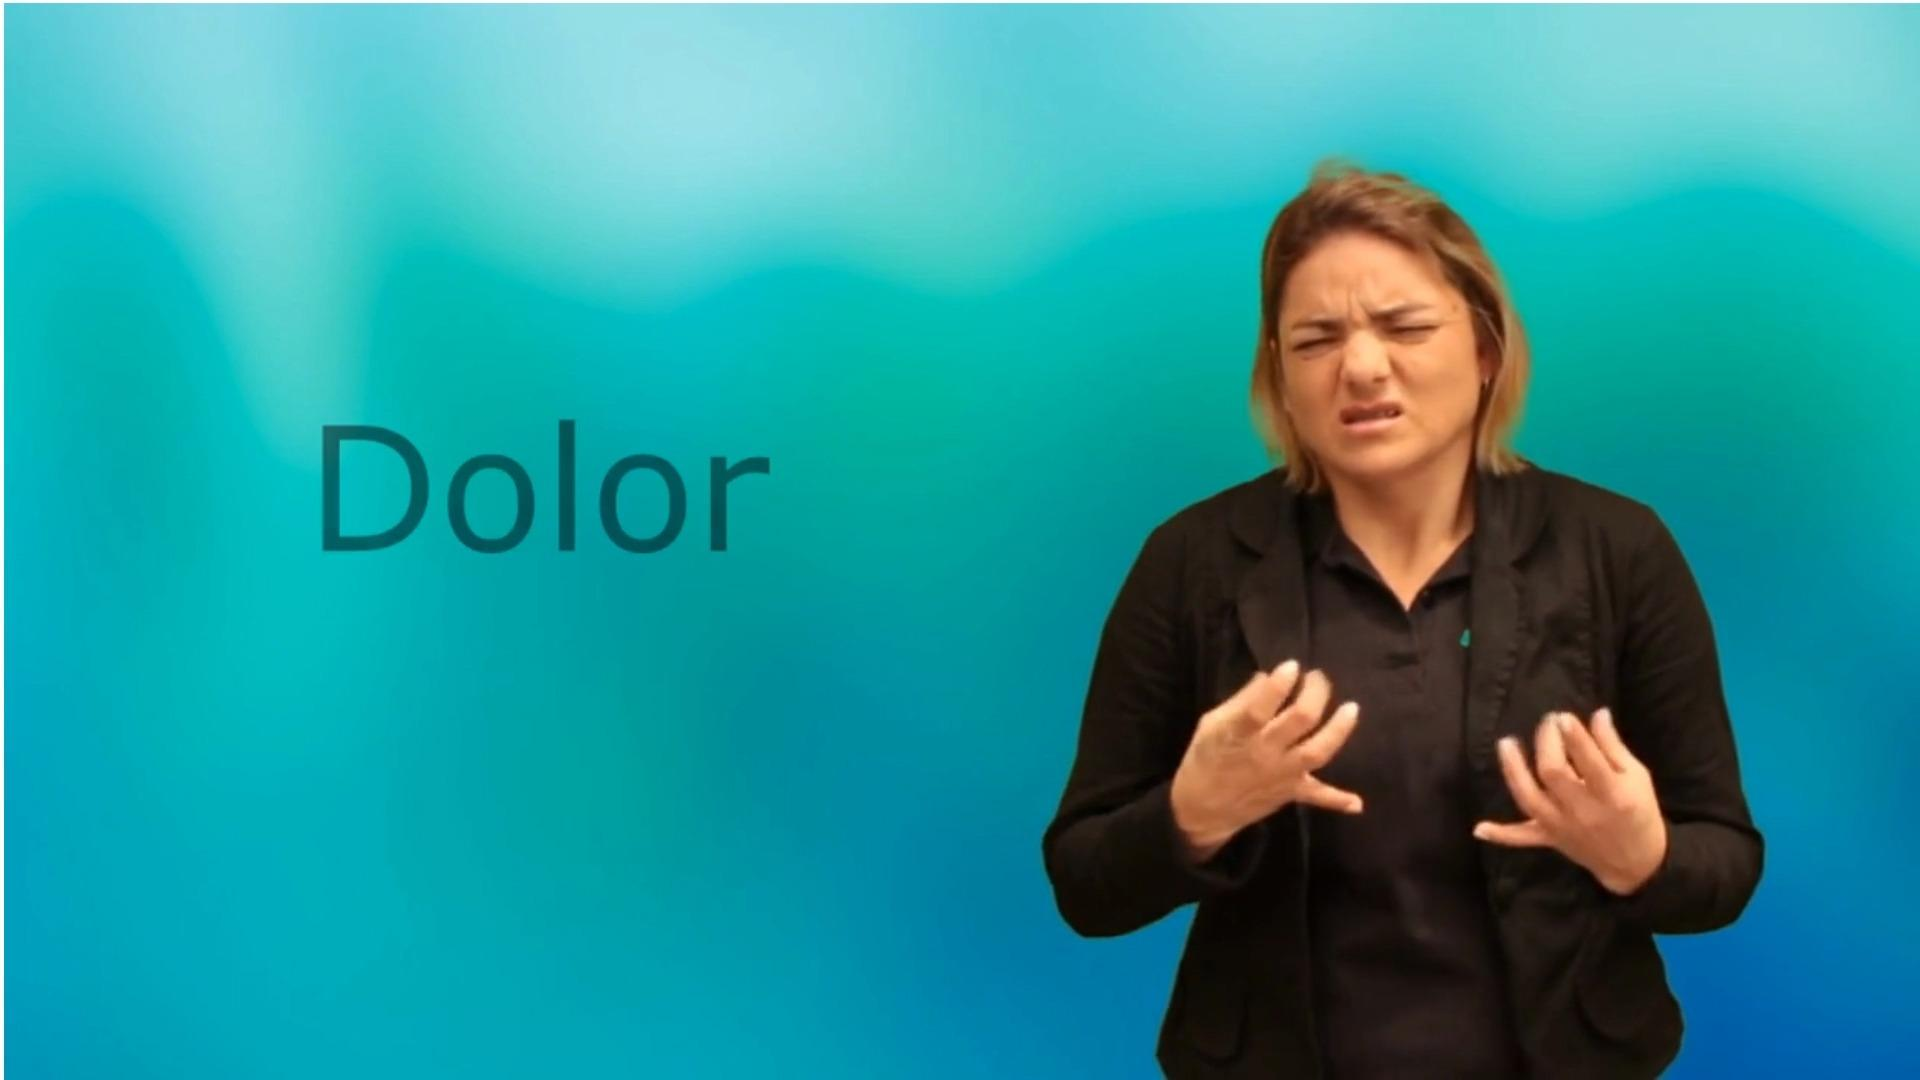Dolor: (1031, 137, 1823, 1014)
